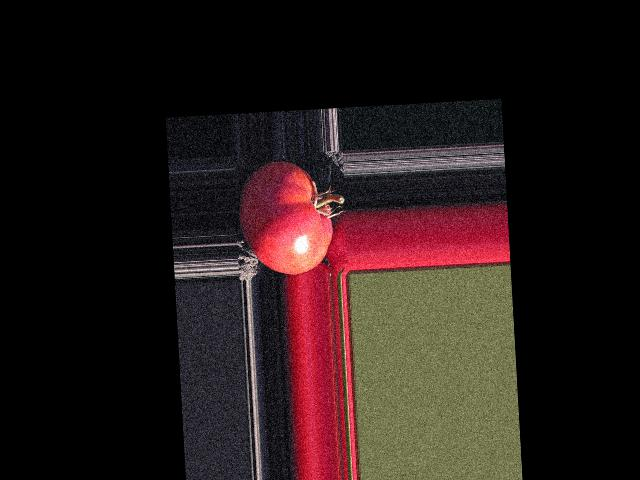tomato: (236, 158, 334, 277)
